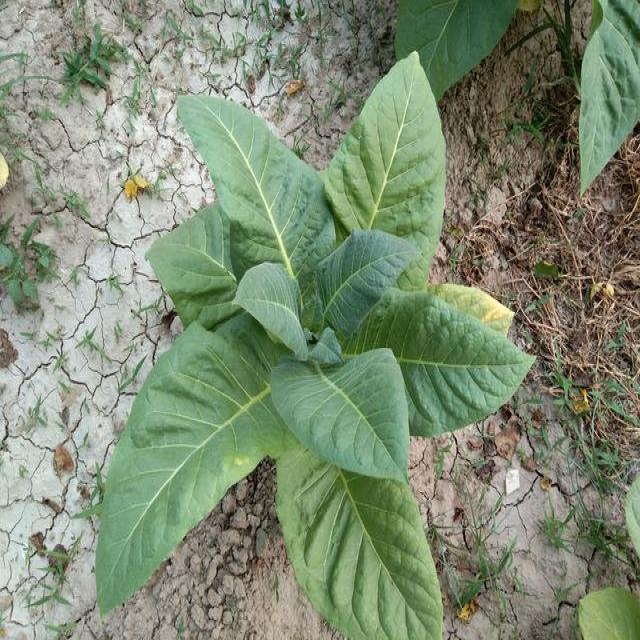crop: (100, 76, 524, 640), (393, 0, 512, 109), (578, 453, 639, 640), (579, 0, 640, 183)
